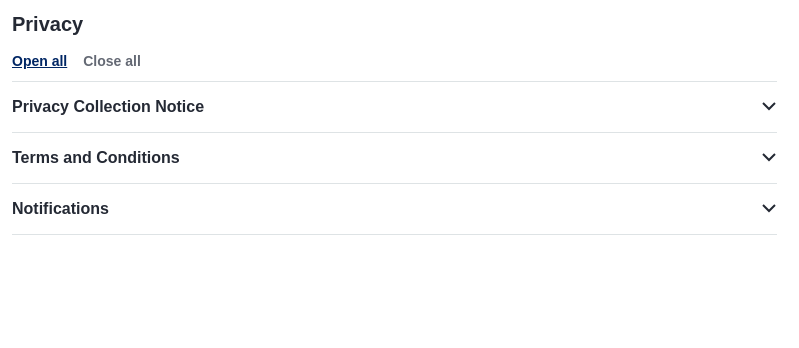
Scenario: selected TaPaaS maturity components › renders legal info accordion sections using accordion buttons
Expected: the heading "Privacy" is shown, [12,13,83,35]
Click the button "Privacy Collection Notice": (108, 106) [12,82,777,132]
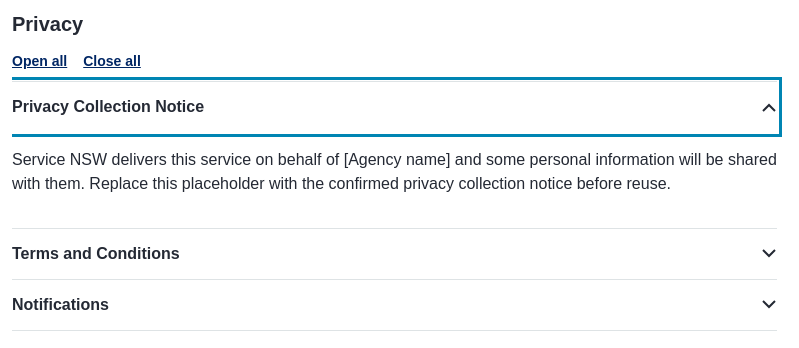
Expected: the button "Privacy Collection Notice" is expanded, [12,82,777,132]
Expected: the text "[Agency name]" is shown, [344,151,450,168]
